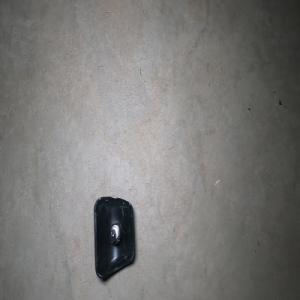LuggagePart: (93, 195, 136, 281)
